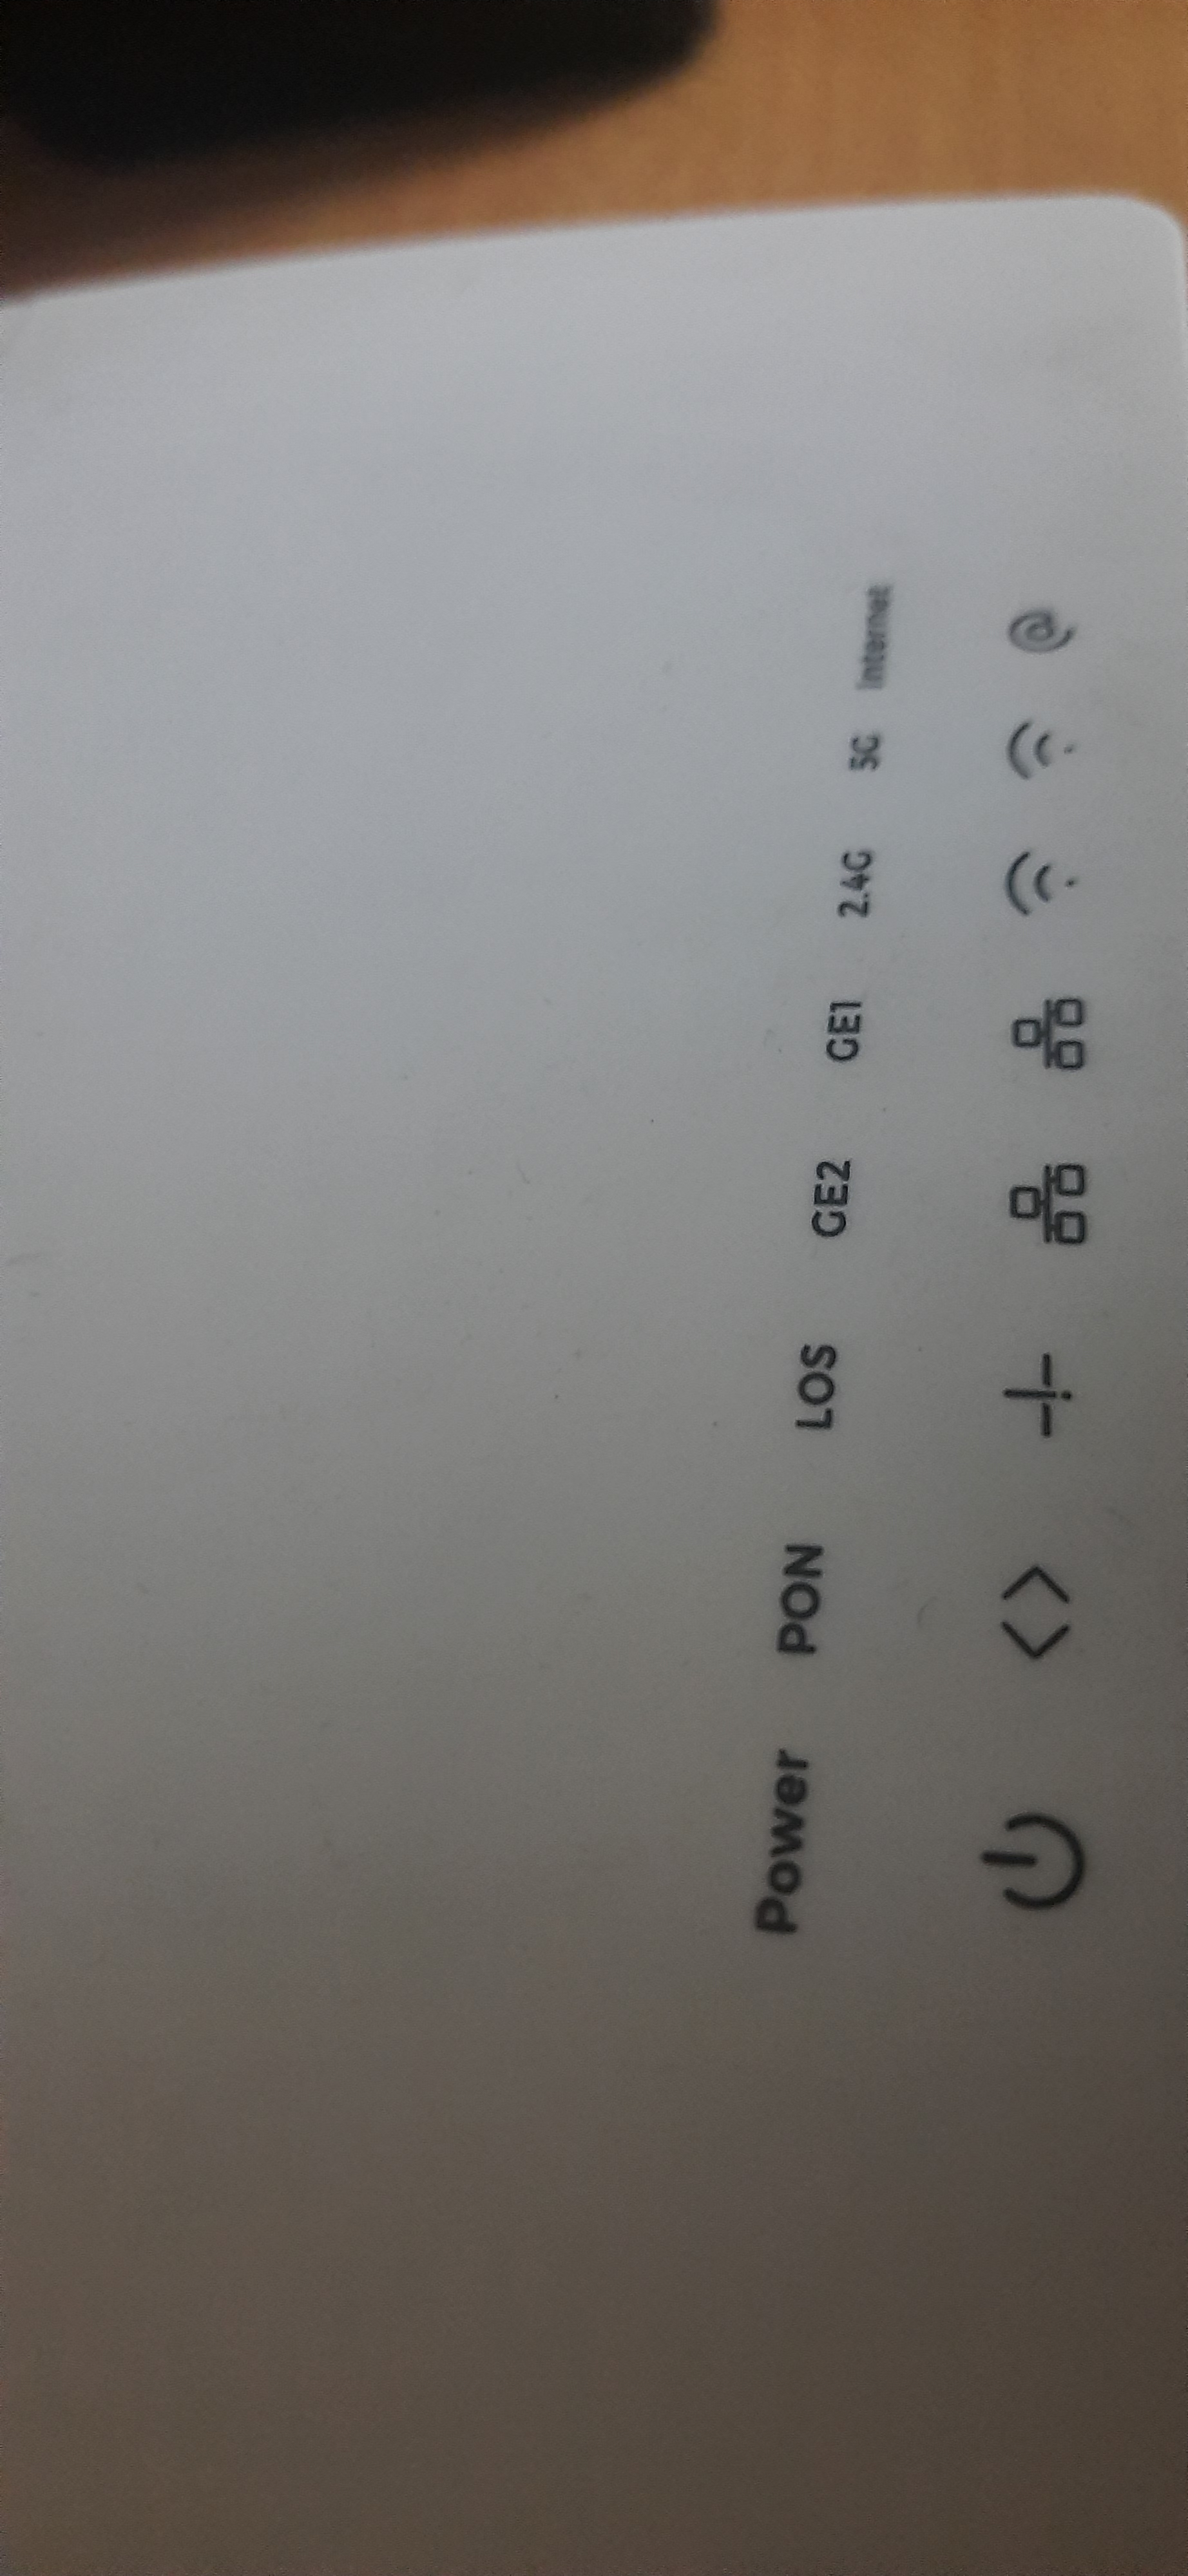WhiteWireIssue: (692, 517, 1127, 1985)
